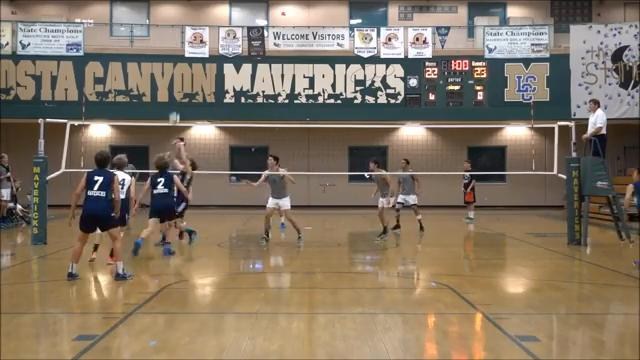Player: (67, 150, 131, 279), (132, 154, 189, 255), (246, 155, 303, 244), (391, 158, 423, 231), (369, 159, 392, 239), (112, 154, 134, 235), (462, 160, 475, 221), (624, 169, 639, 221)
Set: (157, 137, 202, 249)
ball: (169, 111, 182, 126)
